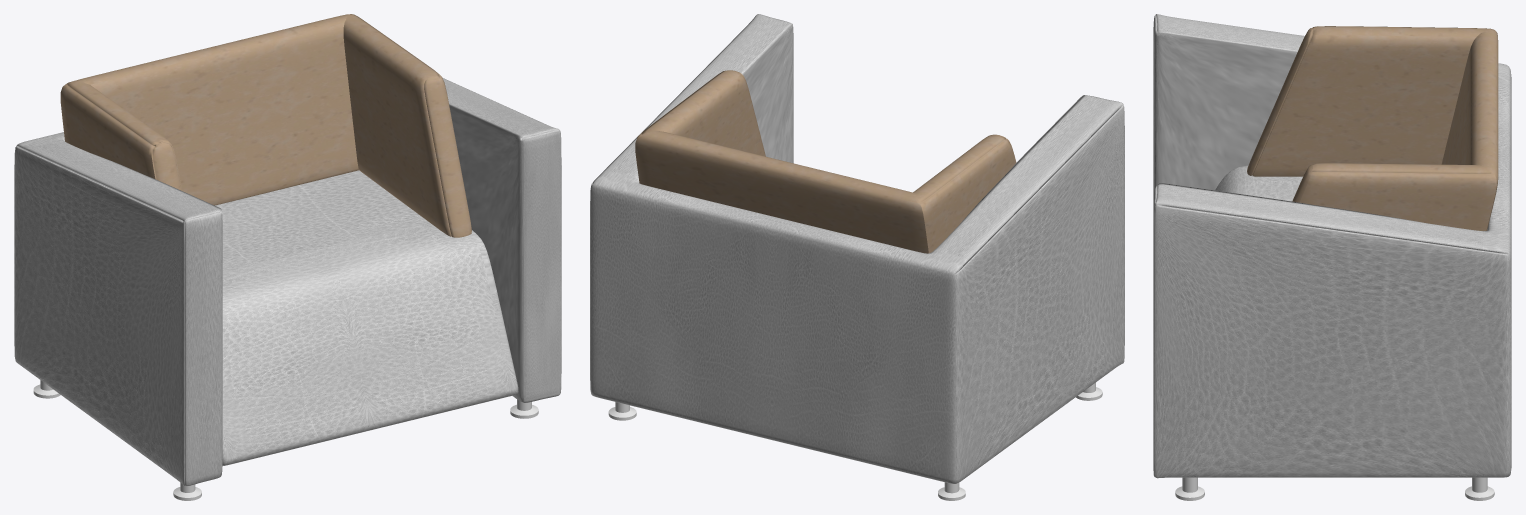
The model's file is cube_armchair.gltf.
The picture shows the model from 3 angles, left to right: view 1: azimuth 30°, elevation 25°; view 2: azimuth 150°, elevation 25°; view 3: azimuth 270°, elevation 25°; orthographic projection. The views are drawn at different scales.
Visible parts, largest first — view 1: Cube.001_1, Cube_0, Cube.002_2, Cylinder_3; view 2: Cube.001_1, Cube.002_2, Cylinder.001_4; view 3: Cube.001_1, Cube.002_2, Cube_0, Cylinder_3, Cylinder.001_4.
Part boxes in pixels (x1,y1,x2,y2): Cube.001_1: [14, 78, 561, 485]; Cube_0: [215, 170, 518, 465]; Cube.002_2: [60, 14, 471, 237]; Cylinder_3: [173, 399, 538, 500]; Cube.001_1: [590, 14, 1124, 483]; Cube.002_2: [635, 70, 1016, 253]; Cylinder.001_4: [608, 402, 965, 500]; Cube.001_1: [1153, 14, 1511, 478]; Cube.002_2: [1247, 26, 1498, 230]; Cube_0: [1215, 165, 1302, 201]; Cylinder_3: [1175, 477, 1204, 500]; Cylinder.001_4: [1465, 477, 1494, 500].
Bounding box in the file's own units: 2.52 × 1.93 × 2.
Materials: 3 (3 with a texture image).
